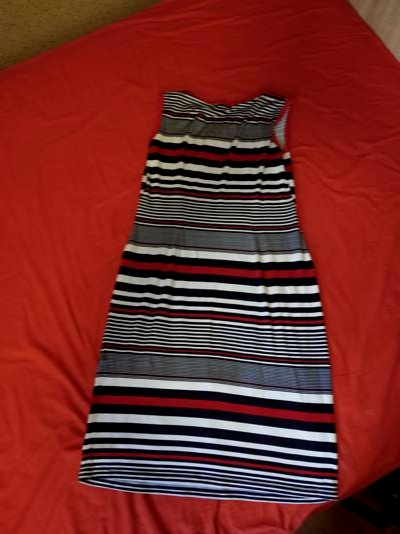Dress: (74, 63, 369, 512)
